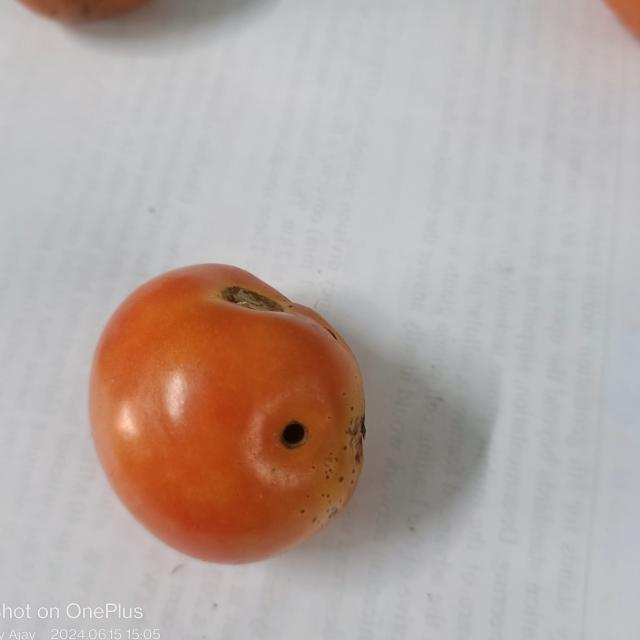fruitworm_bore: (274, 412, 312, 456)
